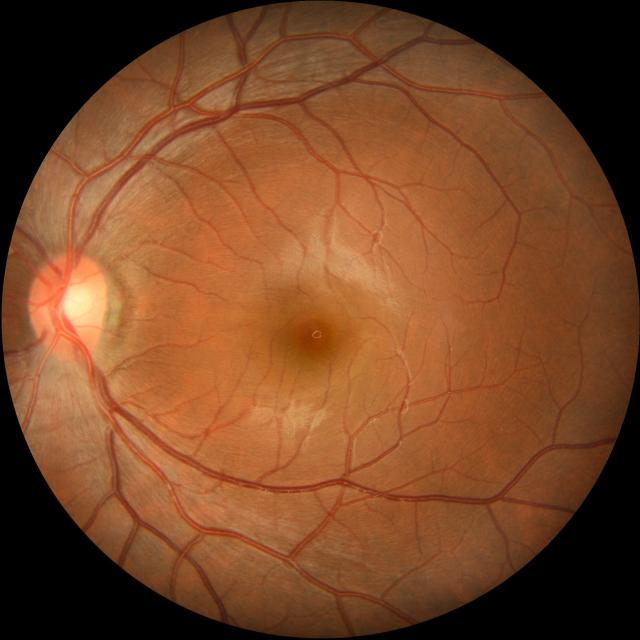OC: (54, 278, 94, 332)
OD: (30, 252, 108, 358)
